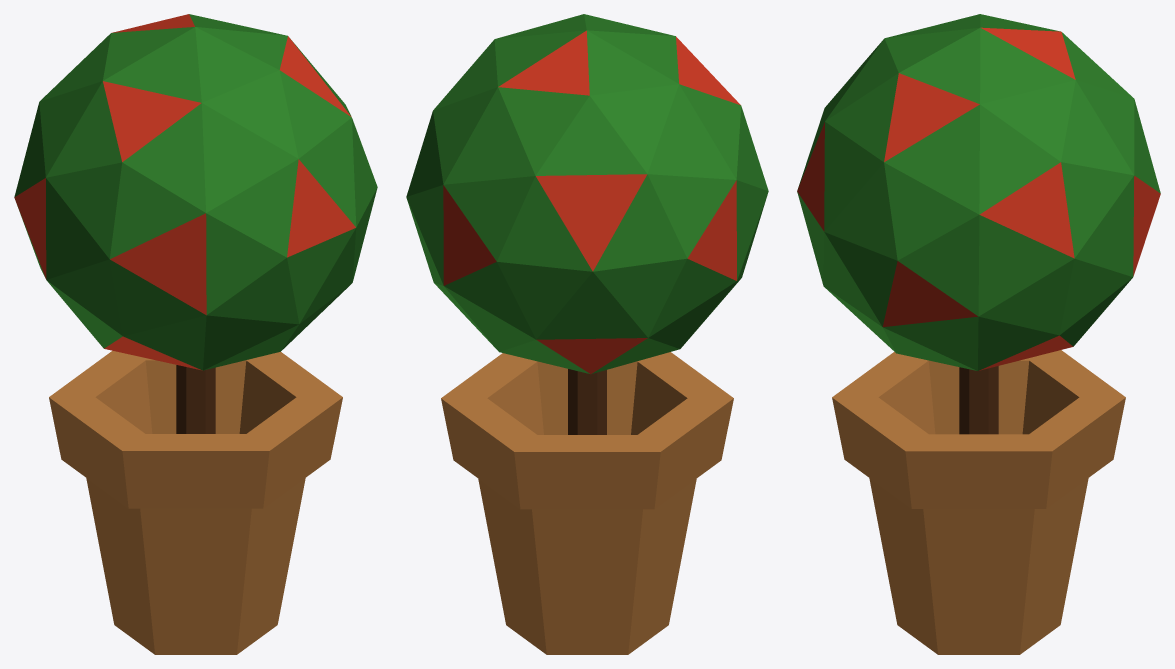
File: low poly plant.fbx
3 renders of one model, left to right at view 1: azimuth 30°, elevation 25°; view 2: azimuth 150°, elevation 25°; view 3: azimuth 270°, elevation 25°, orthographic.
Visible parts, largest first — view 1: Cube; view 2: Cube; view 3: Cube.
Boxes of the visible parts, x1,y1,x2,y2 form: Cube: (14,14,377,654); Cube: (406,14,768,654); Cube: (797,14,1160,654).
Size of the model in its own units: 66.82 by 127 by 70.26.
